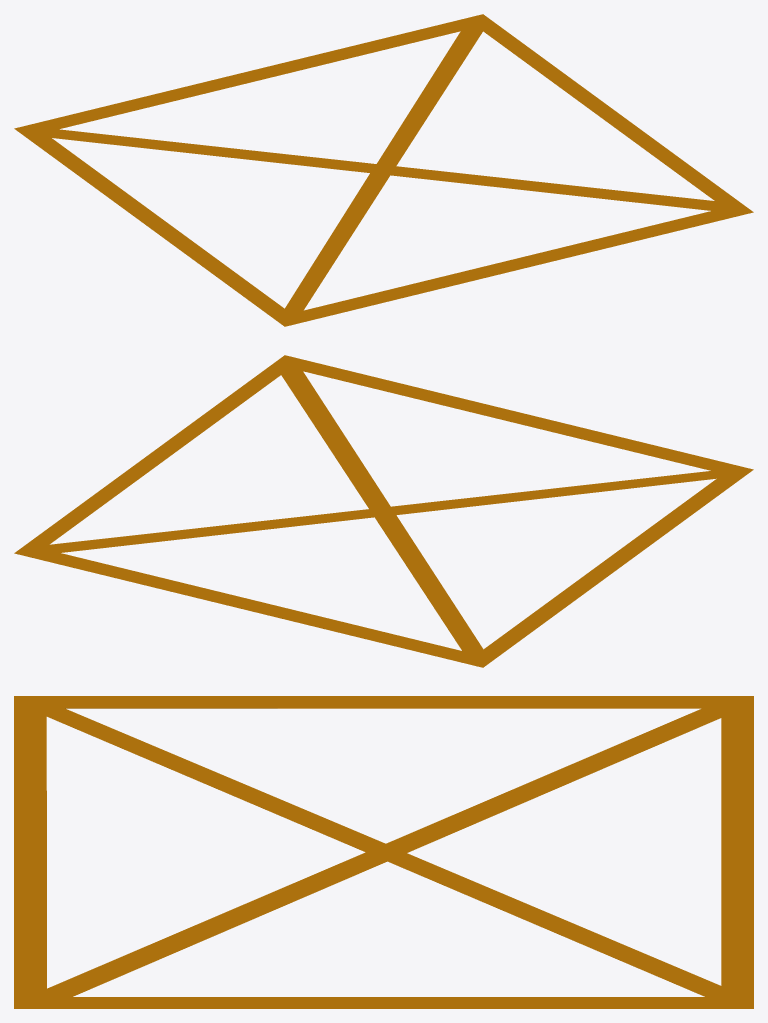
3 renders of one model, top to bottom at view 1: azimuth 30°, elevation 25°; view 2: azimuth 150°, elevation 25°; view 3: azimuth 270°, elevation 25°, orthographic. The views are drawn at different scales.
Parts seen in each view (by area): view 1: Mesh_Line; view 2: Mesh_Line; view 3: Mesh_Line.
Part boxes in pixels (x1,y1,x2,y2): Mesh_Line: (14,14,753,326); Mesh_Line: (14,355,753,667); Mesh_Line: (14,696,753,1008).
Bounding box in the file's own units: 3 × 0.0001 × 3.
